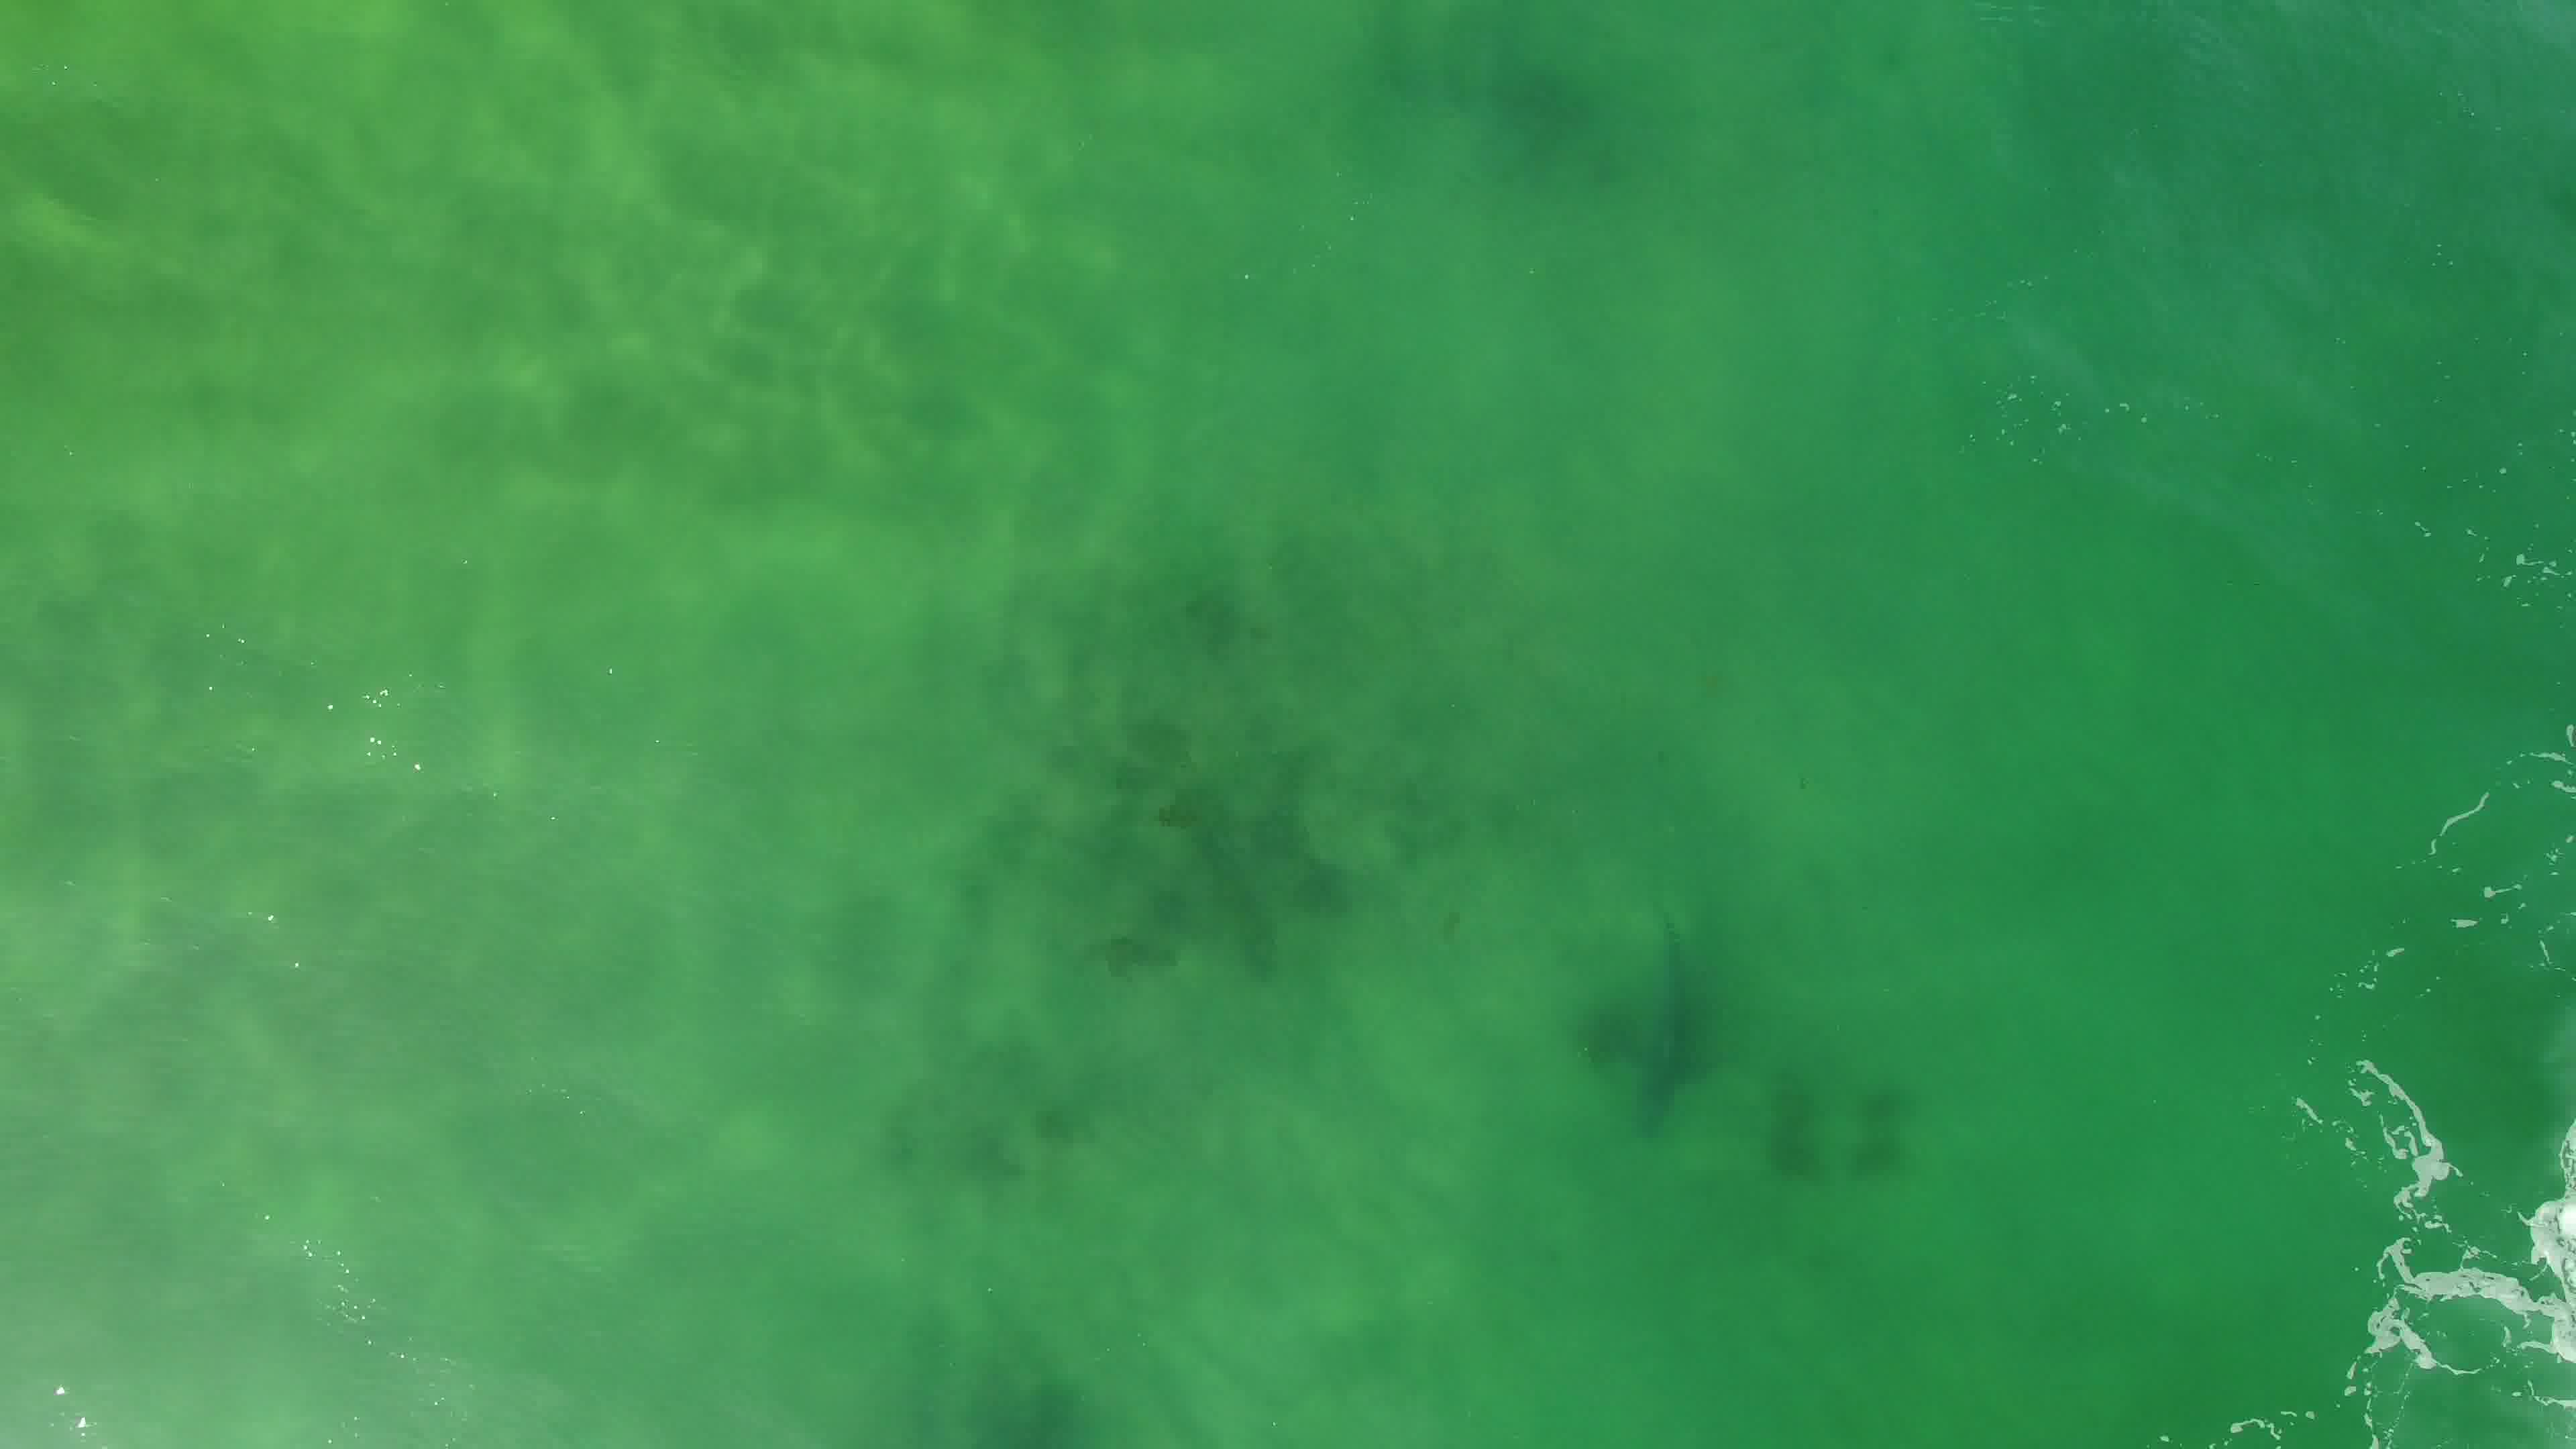shark: (1610, 920, 1720, 1143)
